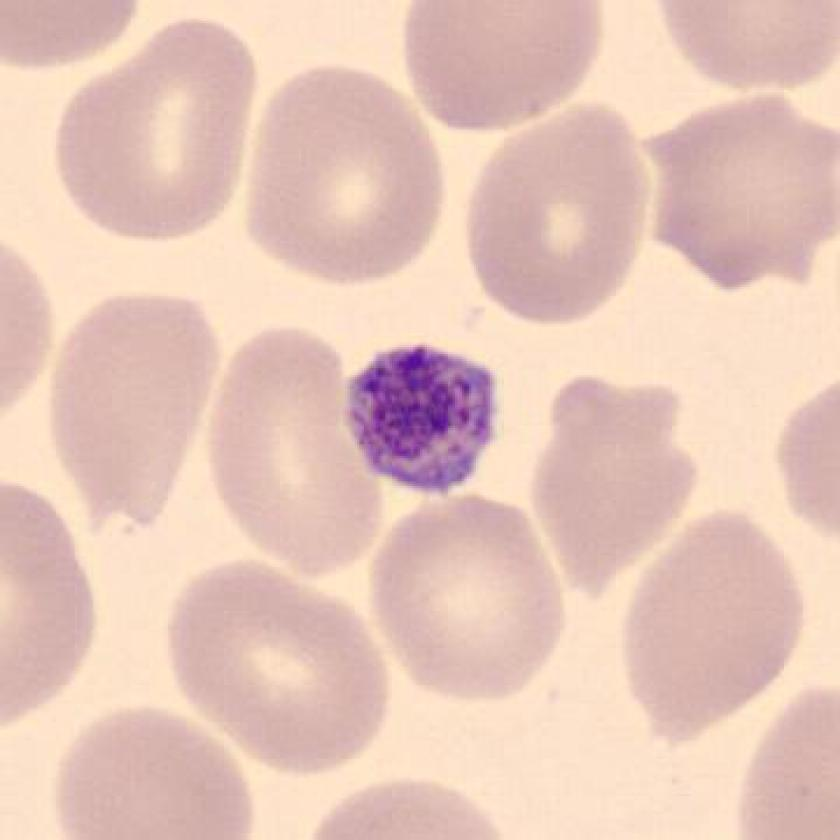platelets: (337, 332, 510, 498)
